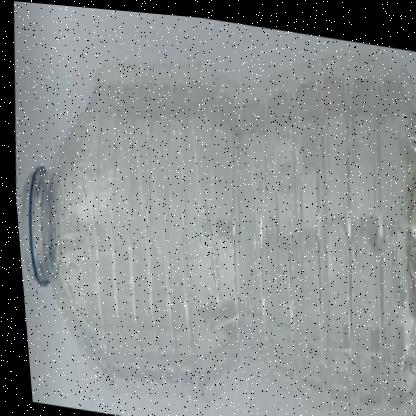open bottle: (1, 1, 145, 416)
